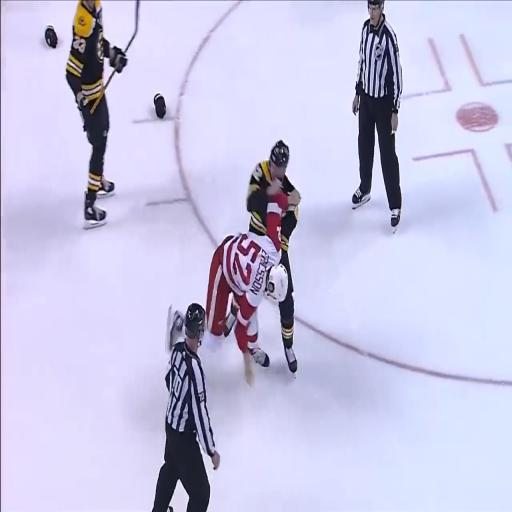violencia: (190, 118, 312, 390)
